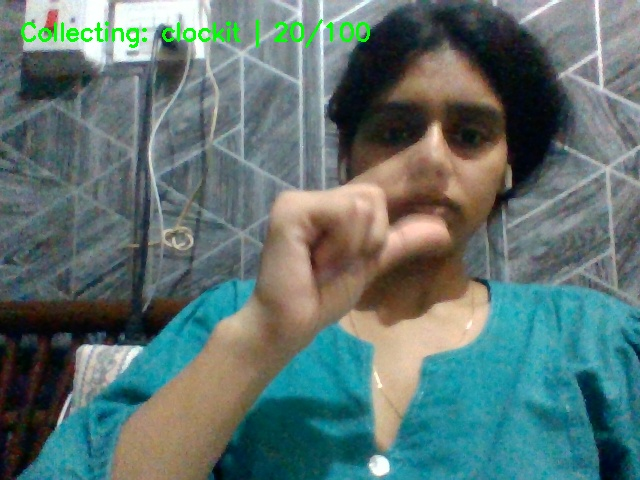clockit: (246, 136, 487, 326)
